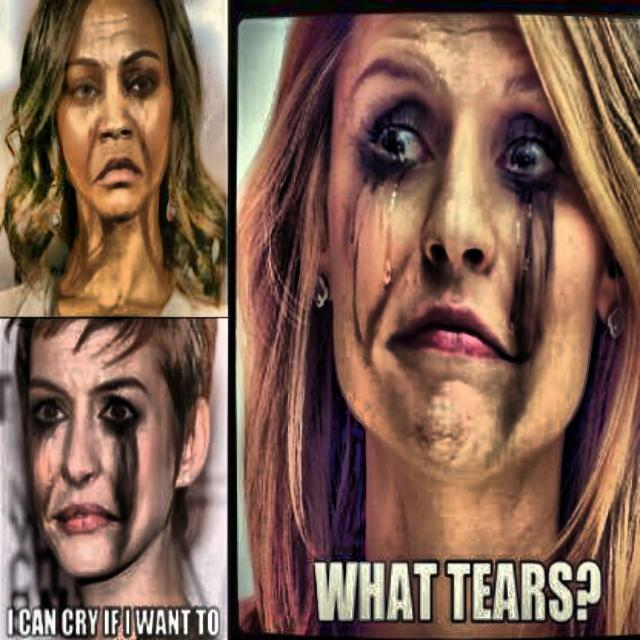sad: (240, 19, 636, 492), (9, 323, 209, 593), (22, 4, 209, 240)
